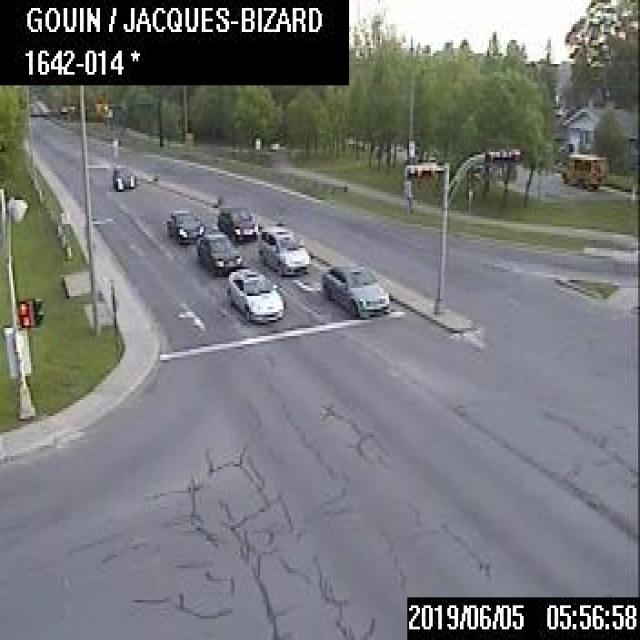bus: (559, 151, 608, 189)
vehicle: (320, 264, 388, 318), (226, 267, 282, 320), (256, 225, 308, 274), (195, 230, 241, 274), (216, 204, 256, 241), (166, 207, 203, 243), (111, 165, 135, 187)
